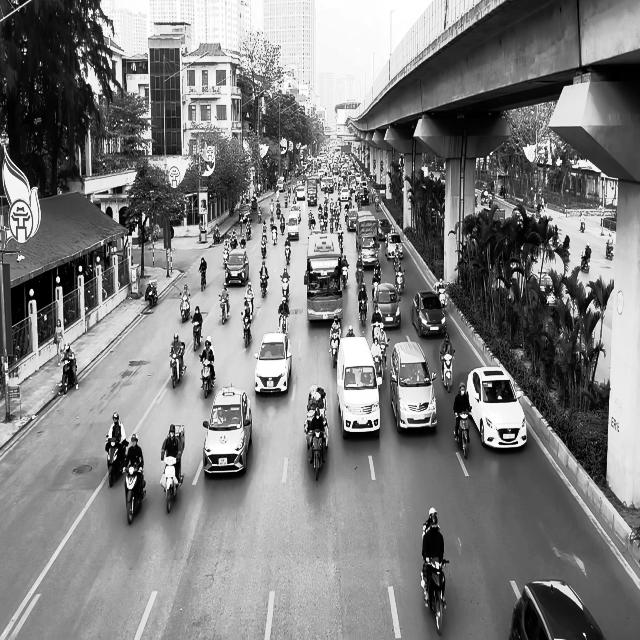bus: (305, 232, 343, 322)
car: (508, 579, 606, 639), (466, 366, 527, 450), (202, 385, 252, 477), (390, 340, 437, 432), (253, 331, 292, 395), (411, 290, 447, 338), (372, 282, 401, 329), (224, 249, 249, 286)
motorbike: (420, 556, 449, 636), (122, 462, 146, 524), (160, 455, 184, 513), (105, 434, 128, 487), (308, 427, 326, 481), (454, 410, 471, 460), (58, 353, 78, 395), (169, 343, 186, 388), (199, 355, 215, 398), (440, 350, 454, 392), (241, 311, 252, 347), (218, 293, 230, 324), (329, 333, 339, 369), (146, 280, 158, 307), (192, 320, 202, 351), (278, 305, 288, 334), (180, 294, 190, 322), (358, 297, 367, 326), (580, 249, 591, 272), (259, 271, 268, 298), (199, 268, 206, 291), (284, 243, 291, 264), (606, 242, 614, 260)
